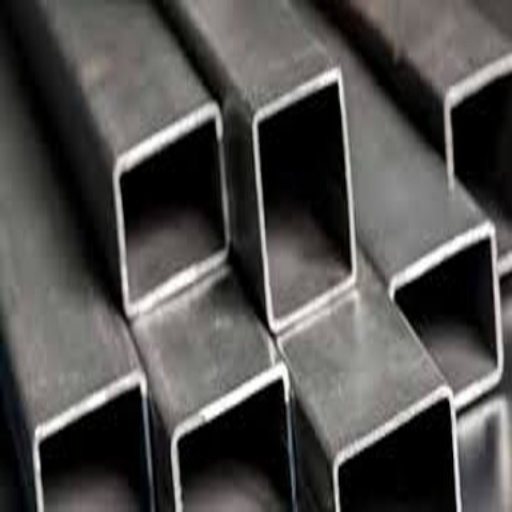Square: (259, 83, 350, 316), (121, 124, 221, 295), (396, 242, 496, 392), (181, 383, 291, 508), (41, 388, 150, 510), (339, 403, 455, 511), (455, 75, 511, 254), (461, 413, 503, 510)
